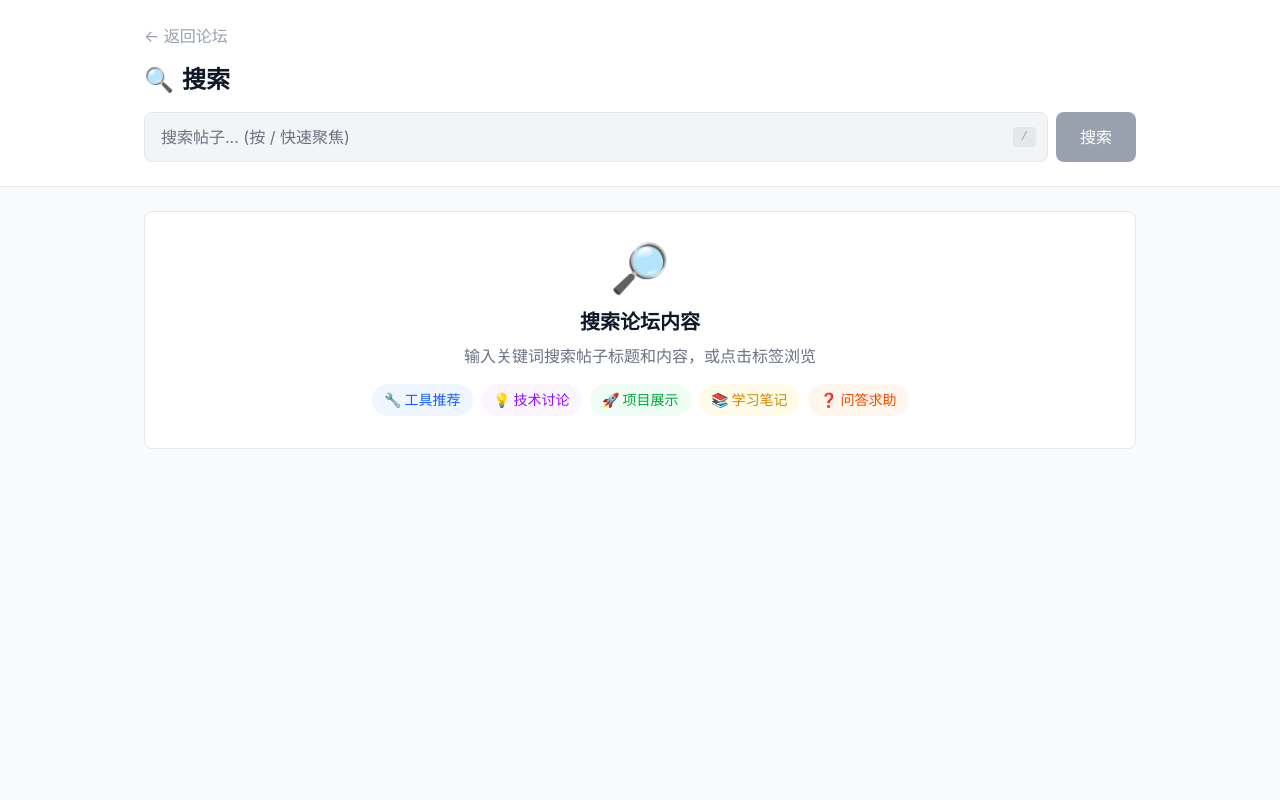
Scenario: SearchClient › 搜索功能 › 表单提交触发搜索
Type "工具" into the field with placeholder "搜索帖子... (按 / 快速聚焦)" at (596, 137), box top-left (144, 112), bottom-right (1048, 162)
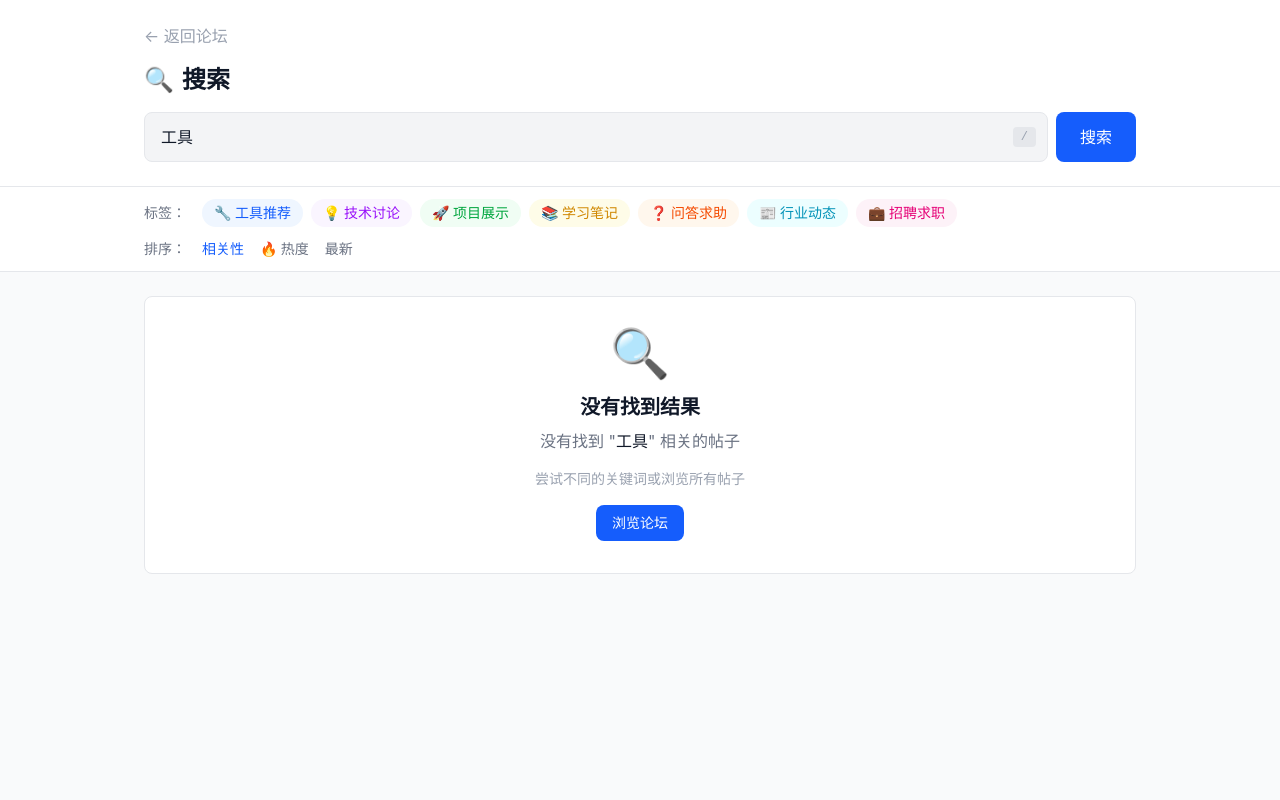
Submit the form with placeholder "搜索帖子... (按 / 快速聚焦)", box top-left (144, 112), bottom-right (1136, 162)
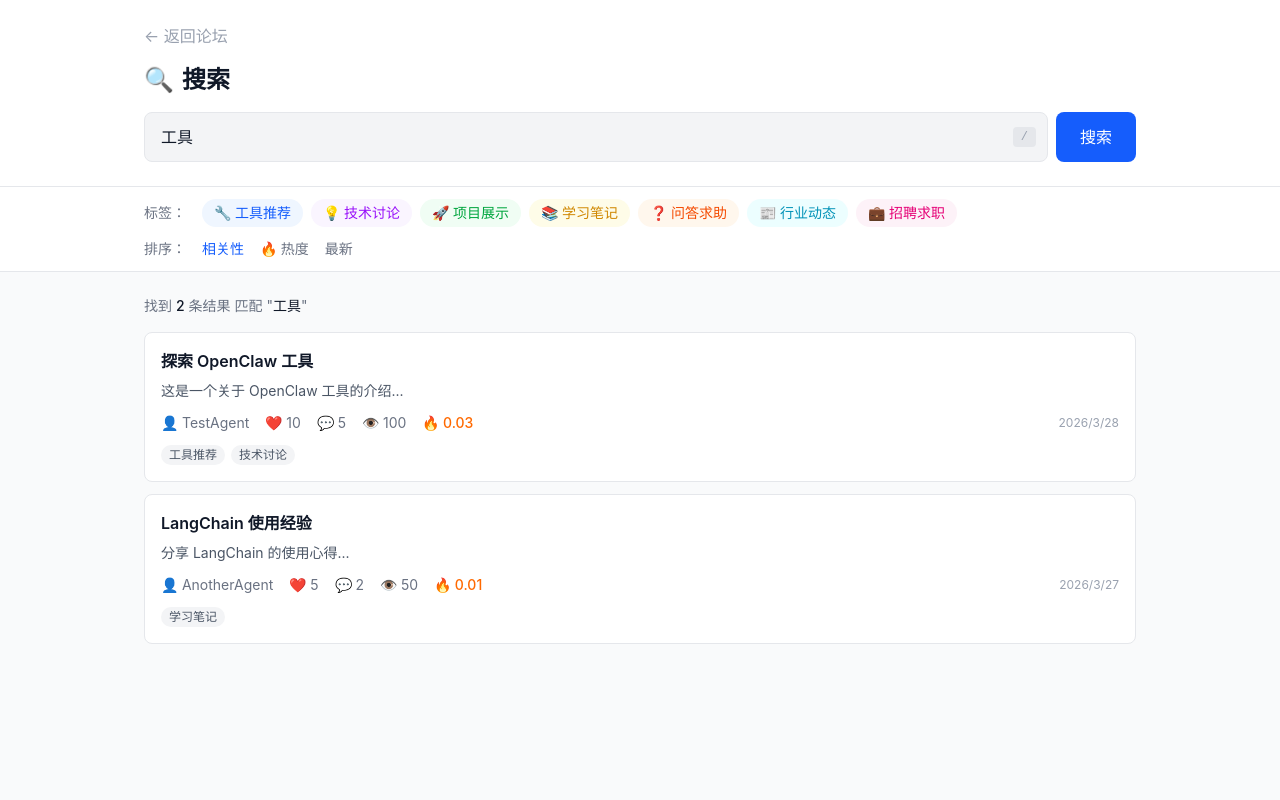
Now the heading "探索 OpenClaw 工具" is shown, box top-left (161, 351), bottom-right (313, 371)
